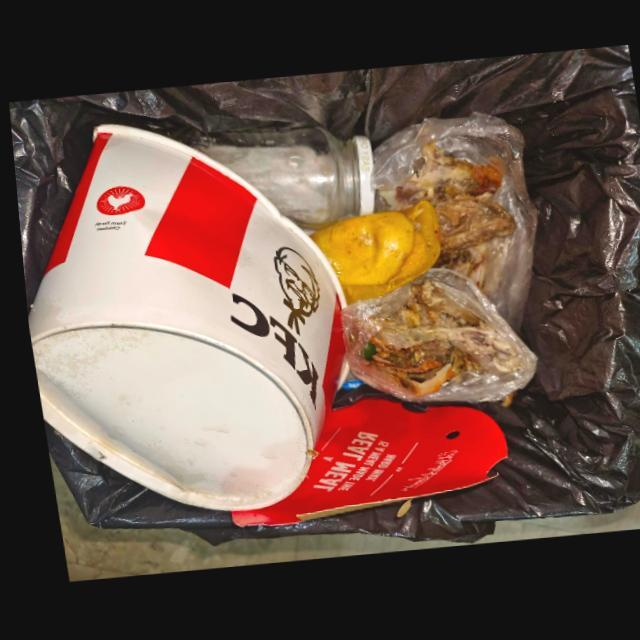biowaste: (370, 143, 511, 294), (356, 282, 490, 398), (306, 202, 436, 303)
glass: (201, 136, 372, 234)
paper: (22, 121, 333, 511), (212, 394, 499, 527)
plastic: (367, 112, 533, 336), (335, 270, 530, 403)
